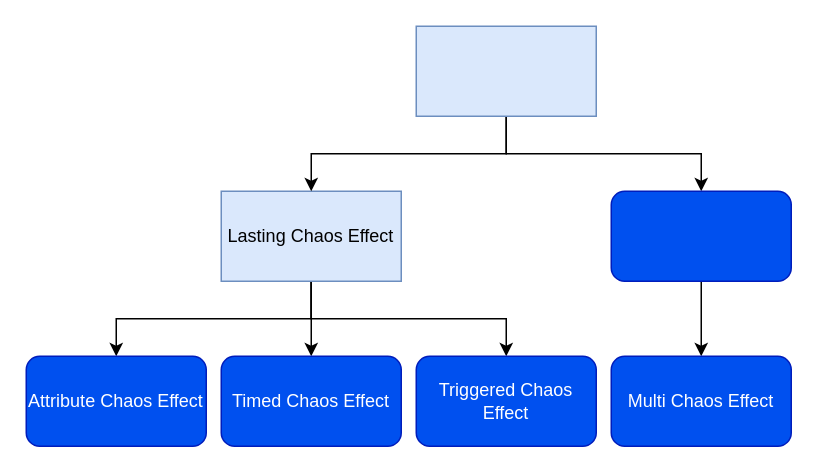
This 818x473 diagram has some shape labels left out. Each missing label, with the centre of its shape:
"Chaos Effect" belongs at pixel 505 70.
"Instant Chaos Effect" belongs at pixel 700 235.
